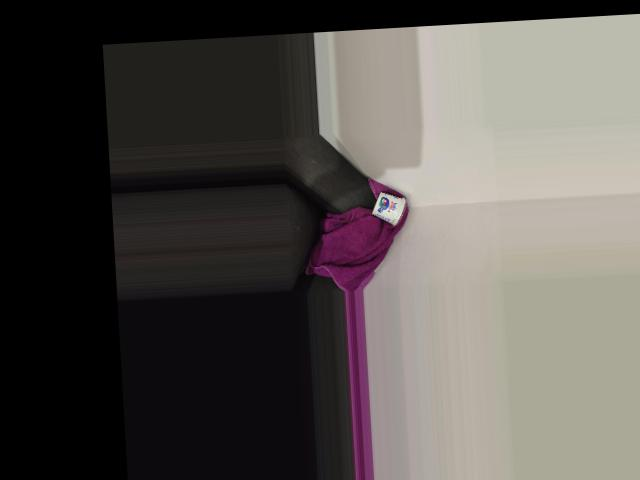cotage: (372, 192, 409, 226)
